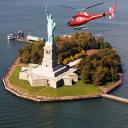helicopter: (59, 4, 118, 32)
